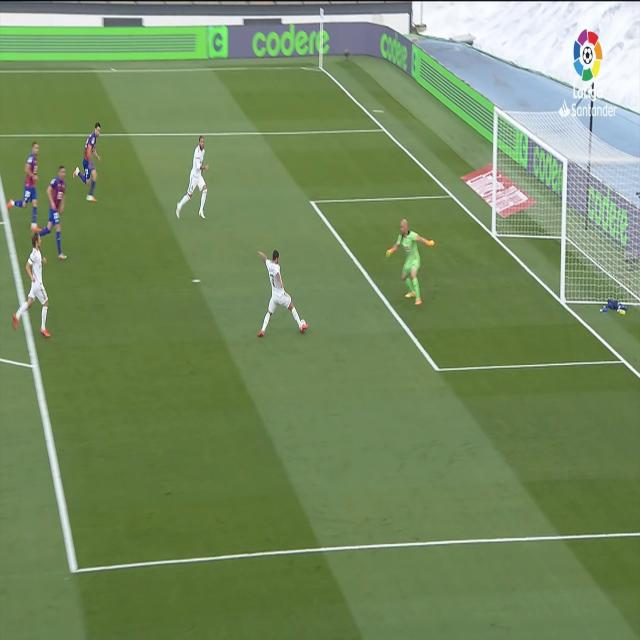Ball: (301, 316, 306, 330)
GoalKeeper: (386, 220, 436, 306)
TEAM 1: (11, 229, 53, 342), (258, 250, 310, 338), (174, 136, 211, 220)
TEAM 2: (6, 140, 42, 225), (42, 166, 66, 262), (78, 122, 103, 203)
